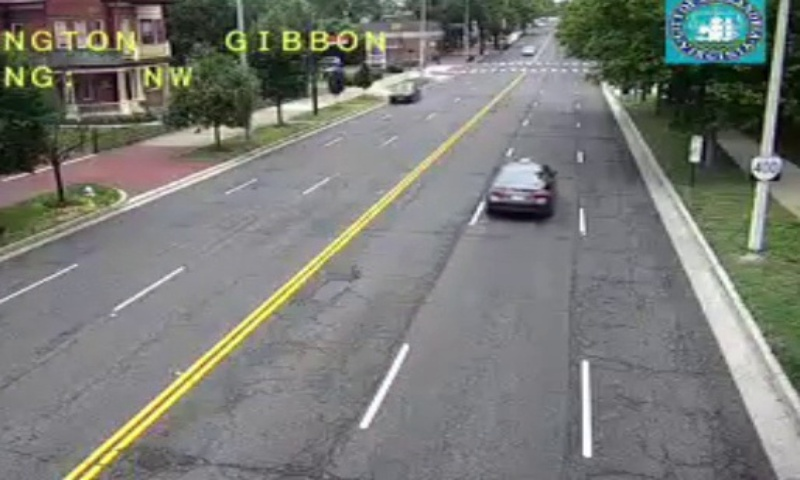car: (485, 163, 554, 211)
